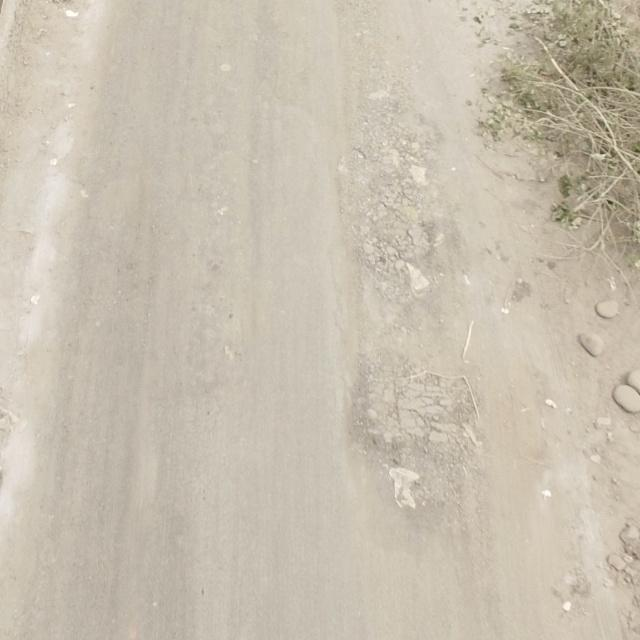BACHE: (342, 100, 457, 301), (349, 348, 494, 498)
